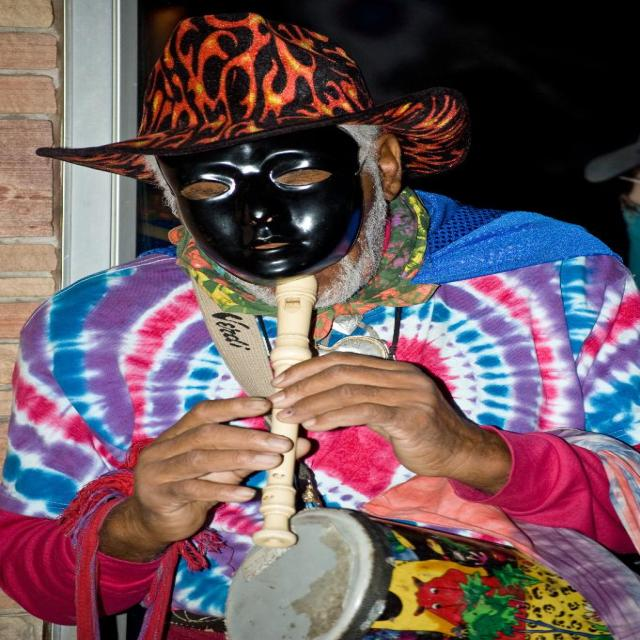Hat: (36, 10, 464, 191)
